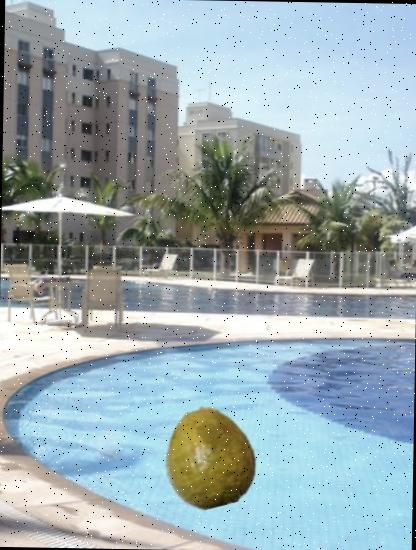Guava: (157, 405, 260, 508)
